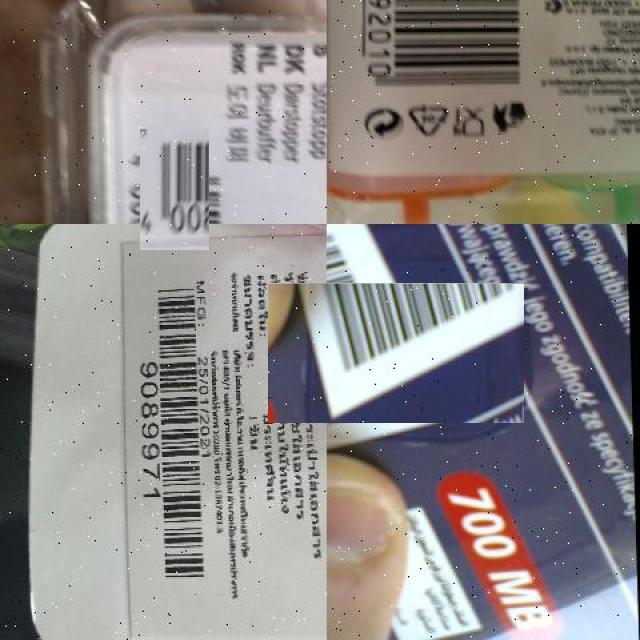Barcode: (297, 253, 496, 452), (137, 274, 211, 594), (347, 0, 537, 102), (126, 142, 222, 237)
